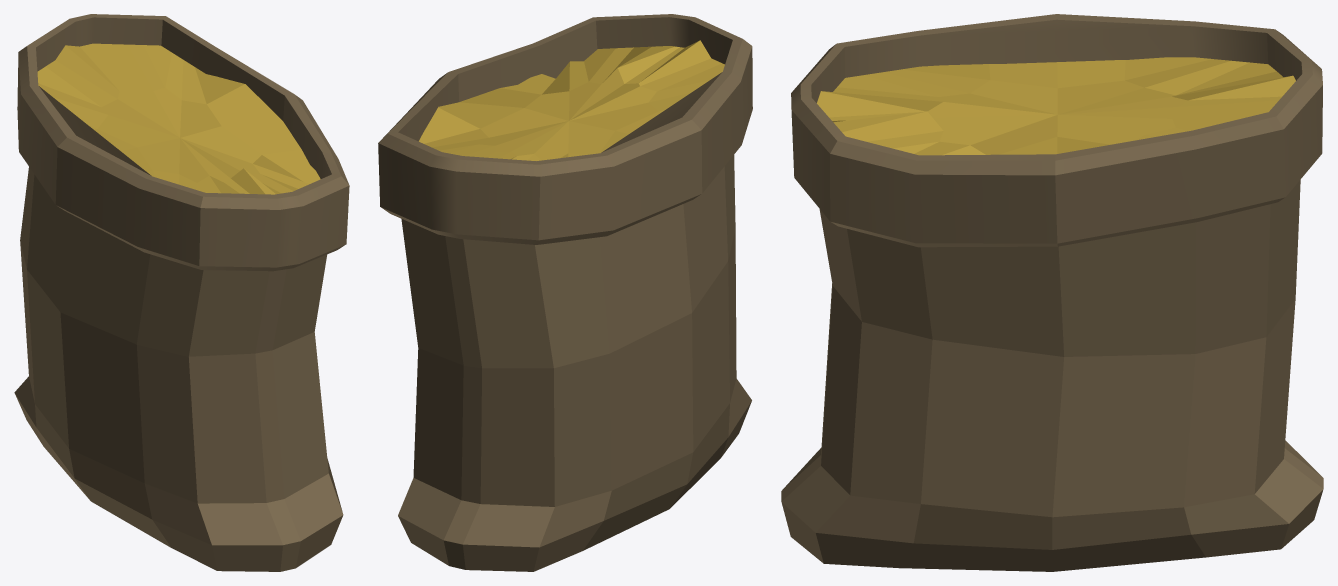
Rendered from Open_Bag_grain.fbx.
3 renders of one model, left to right at view 1: azimuth 30°, elevation 25°; view 2: azimuth 150°, elevation 25°; view 3: azimuth 270°, elevation 25°, orthographic. The views are drawn at different scales.
Visible parts, largest first — view 1: pCone3; view 2: pCone3; view 3: pCone3.
Boxes of the visible parts, box(x1,y1,x2,y2) form: pCone3: box(14, 14, 349, 571); pCone3: box(378, 14, 752, 571); pCone3: box(781, 14, 1323, 571).
Size of the model in its own units: 16.23 by 24.78 by 25.86.
